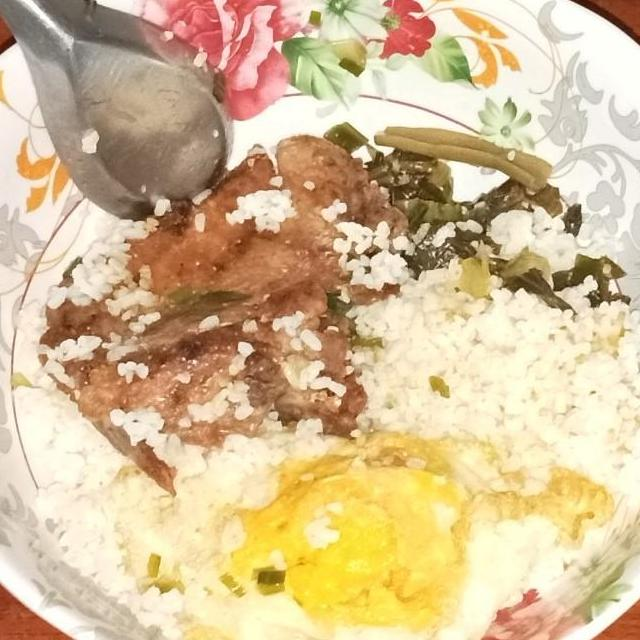com: (342, 254, 640, 485), (6, 372, 193, 640), (14, 195, 173, 342)
dua chua: (349, 122, 635, 314)
suon: (29, 128, 414, 500)
trung: (96, 421, 623, 640)
